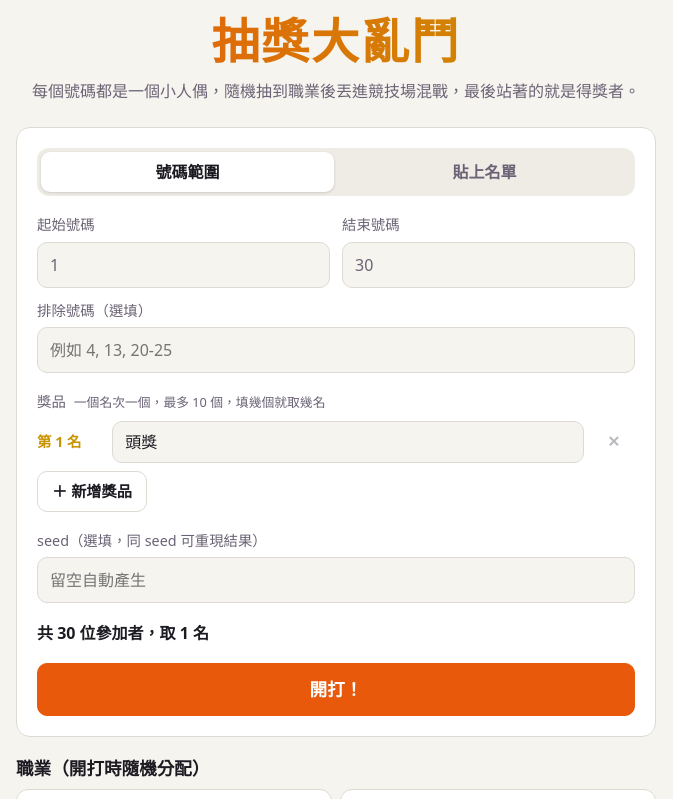
SetupScreen › blocks empty prize names
Click the button "＋ 新增獎品" at (92, 491), box [37,471,147,512]
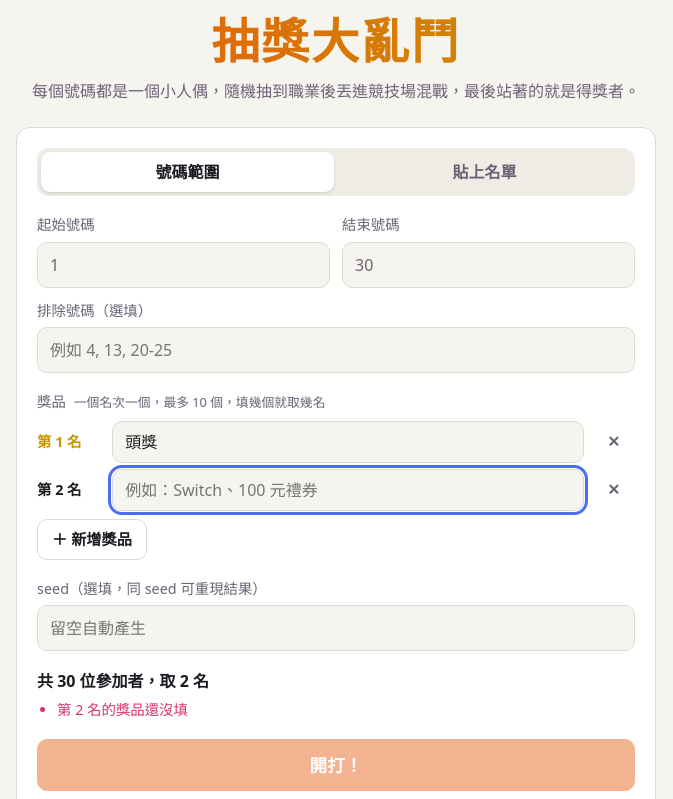
Expected: the list item "第 2 名的獎品還沒填" is shown, [57,700,188,719]
Expected: the button "開打！" is disabled, [37,739,635,791]
